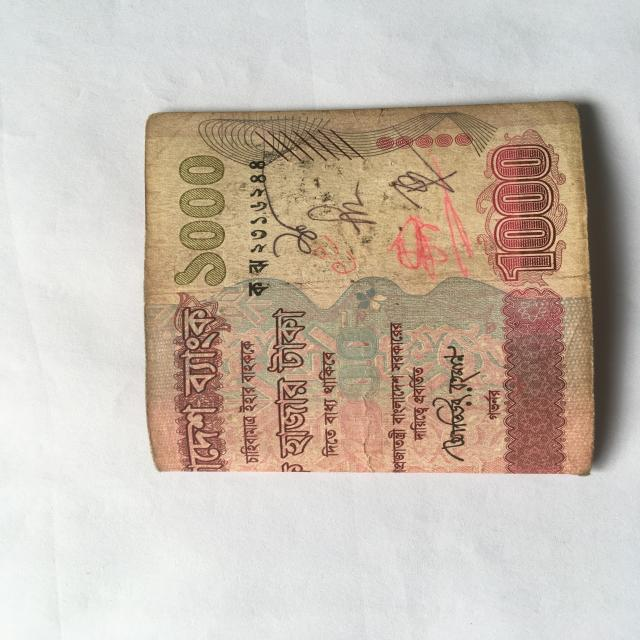Taka: (133, 98, 604, 486)
